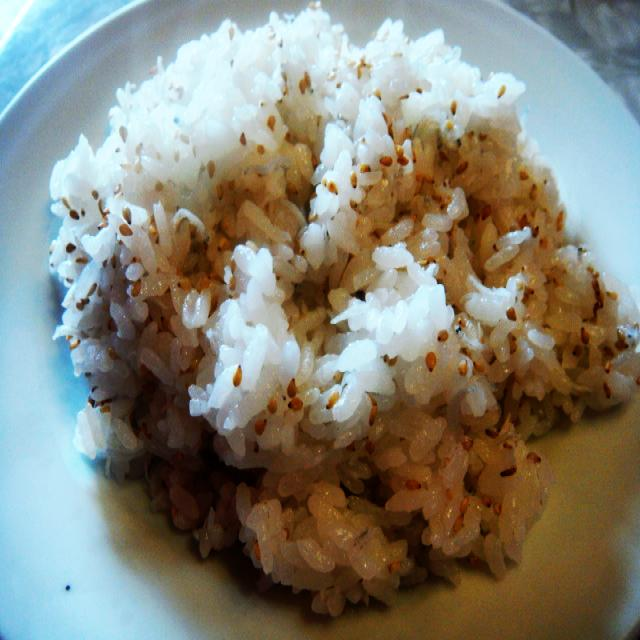rice: (48, 4, 640, 615)
